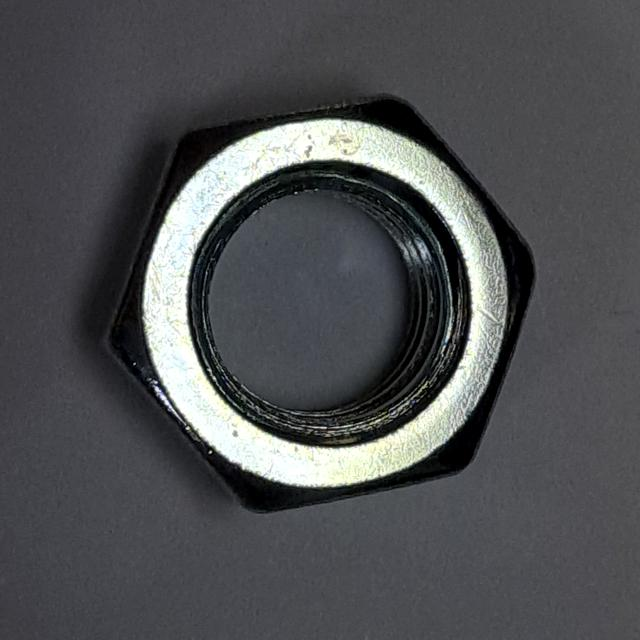Excellent: (83, 79, 547, 531)
